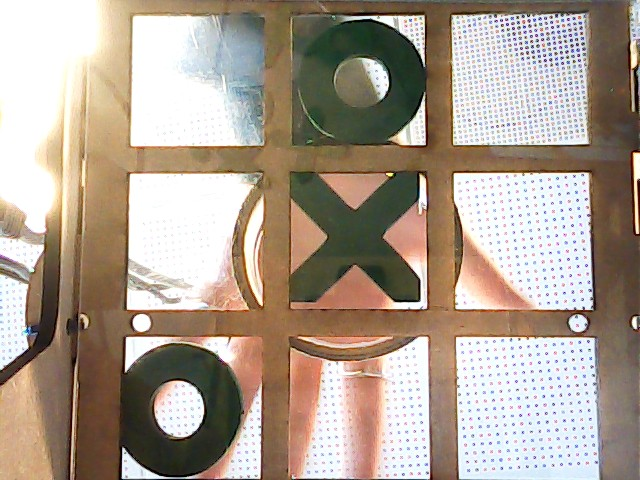O: (297, 16, 429, 143), (124, 341, 242, 477)
X: (291, 172, 424, 307)
